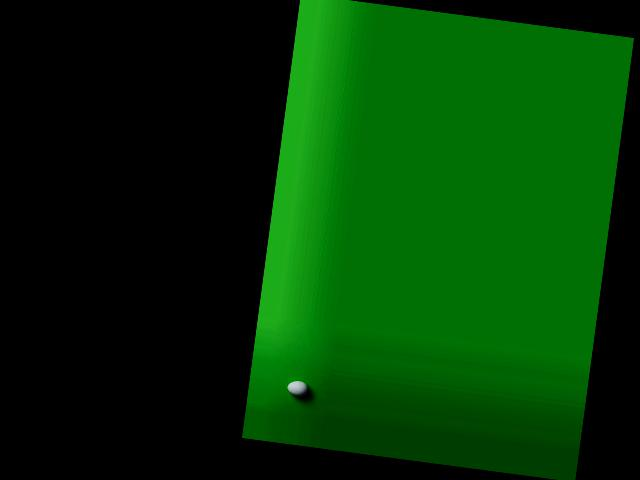egg: (286, 379, 309, 397)
